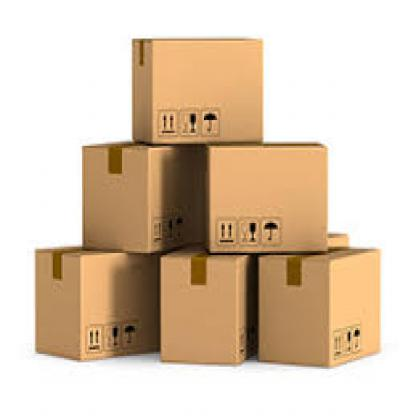CARDBOARD: (80, 137, 206, 255), (32, 244, 159, 361), (255, 246, 379, 364), (201, 140, 326, 256), (130, 38, 262, 144), (159, 240, 255, 362), (326, 231, 347, 251)
